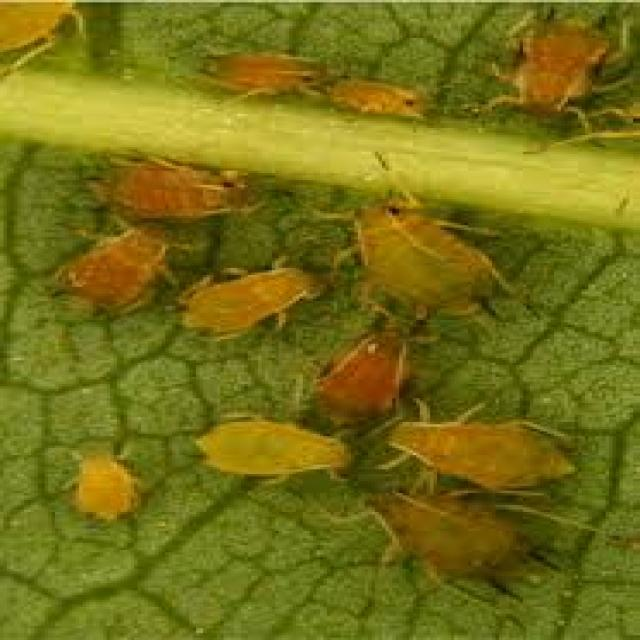Aphids: (301, 187, 529, 330), (355, 480, 577, 606), (363, 405, 600, 508), (478, 10, 623, 141), (99, 150, 262, 239), (181, 404, 350, 483), (163, 263, 329, 338), (53, 217, 175, 315), (308, 323, 416, 432), (314, 58, 442, 124), (41, 437, 138, 522), (186, 40, 310, 98)
